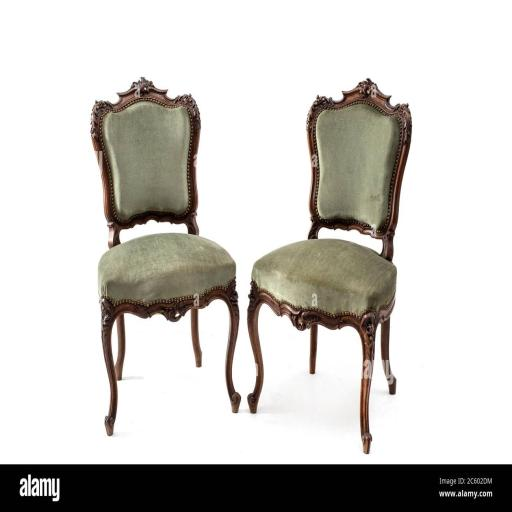chair: (78, 86, 244, 437)
